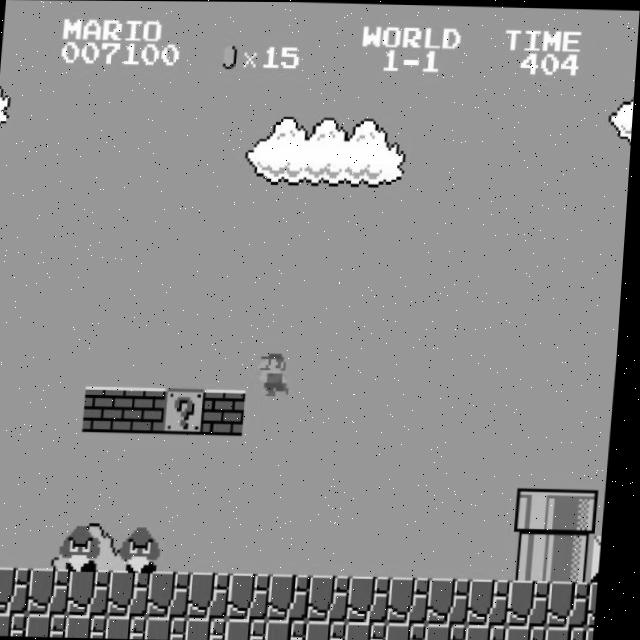1- brick_block: (127, 386, 172, 434), (207, 388, 252, 436), (87, 385, 132, 432)
11- little_mario: (255, 346, 301, 396)
13- mystery_block: (167, 387, 212, 434)
14- pipe: (557, 533, 602, 581), (517, 533, 562, 580)
15- pipe_head: (521, 487, 565, 534), (561, 488, 605, 535)
17- undestructible_block: (34, 567, 79, 615), (114, 569, 159, 617), (194, 571, 239, 619), (74, 568, 119, 615), (154, 570, 199, 617), (234, 572, 279, 619), (274, 573, 319, 620), (314, 574, 359, 621), (474, 577, 518, 625), (554, 579, 598, 627), (354, 575, 398, 622), (394, 576, 438, 623), (434, 577, 478, 624), (514, 579, 558, 626), (0, 567, 39, 614), (33, 613, 75, 637), (73, 614, 115, 638), (113, 615, 155, 639), (153, 616, 195, 640), (193, 617, 235, 640), (272, 618, 315, 640), (233, 618, 275, 640), (312, 619, 355, 640), (352, 620, 395, 640), (0, 612, 35, 636), (392, 621, 435, 640), (432, 622, 475, 640), (472, 623, 515, 640), (512, 624, 554, 640), (552, 624, 594, 640), (595, 581, 605, 627), (593, 626, 601, 640)
8- goomba: (123, 523, 170, 574), (63, 522, 109, 572)
9- hard_block: (598, 535, 609, 581)
